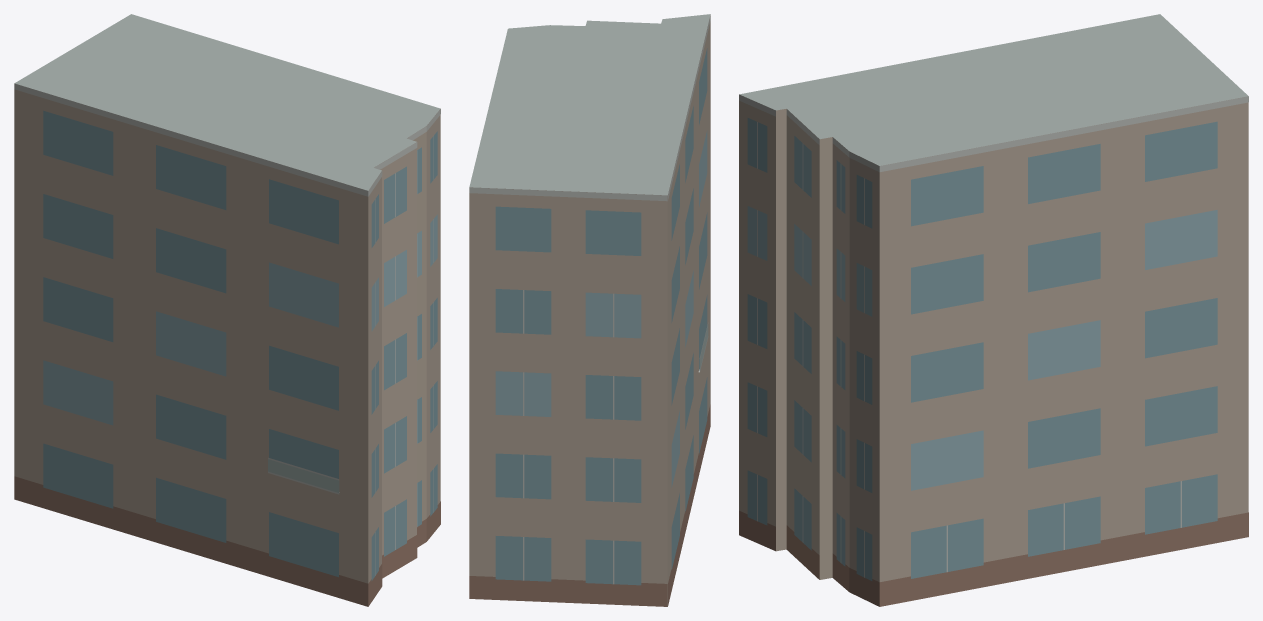
The model's file is survey-upis-32988813.glb.
The picture shows the model from 3 angles, left to right: view 1: azimuth 30°, elevation 25°; view 2: azimuth 150°, elevation 25°; view 3: azimuth 270°, elevation 25°; orthographic projection. The views are drawn at different scales.
Parts seen in each view (by area): view 1: survey-upis-32988813.tmp; view 2: survey-upis-32988813.tmp; view 3: survey-upis-32988813.tmp.
Part boxes in pixels (x1,y1,x2,y2): survey-upis-32988813.tmp: [14, 14, 440, 606]; survey-upis-32988813.tmp: [469, 14, 710, 606]; survey-upis-32988813.tmp: [739, 14, 1248, 606].
Size of the model in its own units: 12.75 by 17.22 by 18.05.
